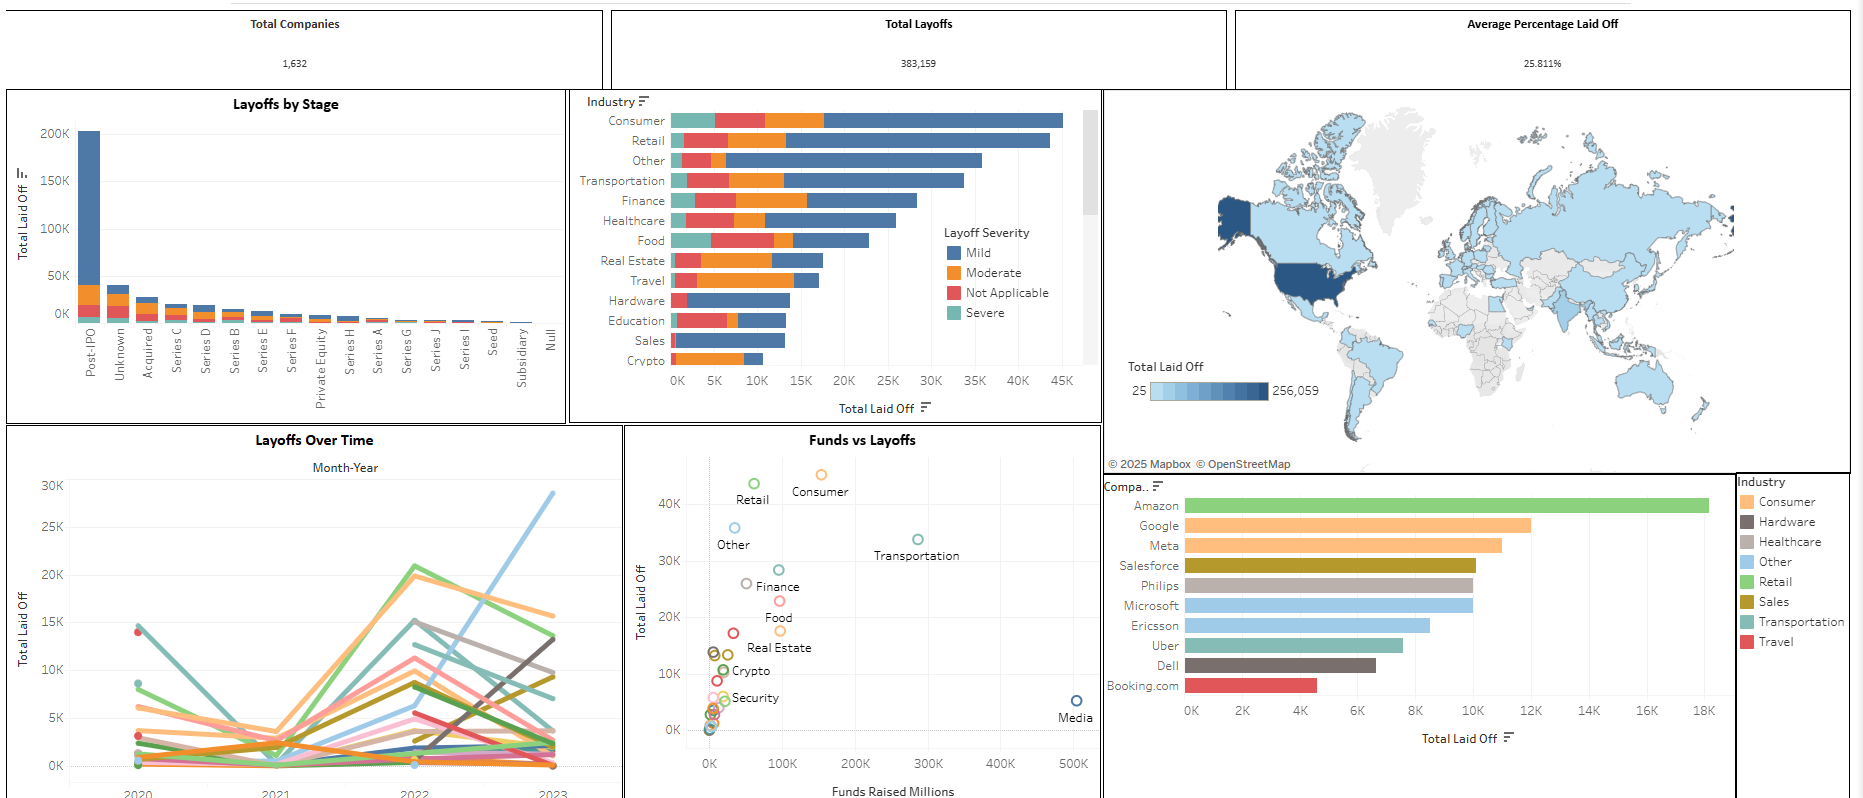

What the dashboard file says about the page in this screenshot:
{"tool":"tableau","page":{"name":"Dashboard 1","canvas":[1000,1000],"units":"permille","ordinal":0},"visuals":[{"type":"worksheet","title":"Sheet 1","mark":"Automatic","box":[324.8,2.5,337.3,109.4]},{"type":"worksheet","title":"Sheet 3","mark":"Automatic","box":[662.1,2.5,337.3,109.4]},{"type":"worksheet","title":"Sheet 7","mark":"Automatic","rows":["total_laid_off"],"cols":["stage"],"box":[0,105.5,302.7,415.8]},{"type":"worksheet","title":"Sheet 6","mark":"Automatic","rows":["industry"],"cols":["total_laid_off"],"box":[304.3,105.5,288.1,414.6]},{"type":"worksheet","title":"Sheet 5","mark":"Multipolygon","box":[593,105.5,404.3,478.6]},{"type":"legend","title":"Sheet 6","param":"[federated.0kaak0t004vzw117cswzv1jinetq].[none:Calculation_1190076227184119810:n","box":[507,273.9,75.7,168.3]},{"type":"legend","title":"Sheet 5","param":"[federated.0kaak0t004vzw117cswzv1jinetq].[sum:total_laid_off:qk]","box":[606.5,439.7,106,109.3]},{"type":"worksheet","title":"Sheet 4","mark":"Line","rows":["total_laid_off"],"cols":["Calculation_1190076227183685632"],"box":[0,523.3,333.5,471.7]},{"type":"worksheet","title":"Sheet 9","mark":"Automatic","rows":["total_laid_off"],"cols":["funds_raised_millions"],"box":[334.2,523.3,257.5,473]},{"type":"legend","title":"Sheet 8","param":"[federated.0kaak0t004vzw117cswzv1jinetq].[none:industry:nk]","box":[935.1,581.7,61.6,415.8]},{"type":"worksheet","title":"Sheet 8","mark":"Automatic","rows":["company"],"cols":["total_laid_off"],"box":[593,584.2,342.2,413.3]}]}

Visuals, with their boxes on the dashboard's canvas, which has no fixed pixel size, in thousandths of its width and height (x1, y1, x2, y2). These are canvas units, not pixel positions in the 1863x798 screenshot, which may show the page scaled, cropped or inside an application window:
"Sheet 1" worksheet: 325/2/662/112
"Sheet 3" worksheet: 662/2/999/112
"Sheet 7" worksheet: 0/106/303/521
"Sheet 6" worksheet: 304/106/592/520
"Sheet 5" worksheet (Multipolygon marks): 593/106/997/584
"Sheet 6" legend: 507/274/583/442
"Sheet 5" legend: 606/440/712/549
"Sheet 4" worksheet (Line marks): 0/523/334/995
"Sheet 9" worksheet: 334/523/592/996
"Sheet 8" legend: 935/582/997/998
"Sheet 8" worksheet: 593/584/935/998
